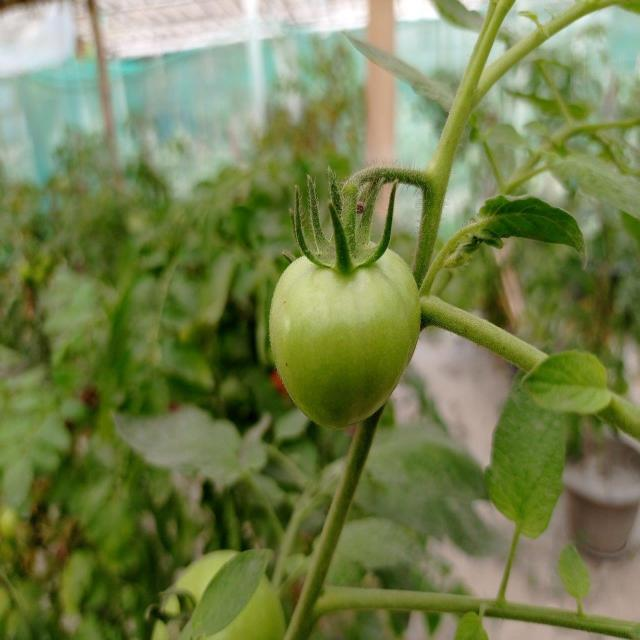Unripe: (270, 234, 421, 430)
